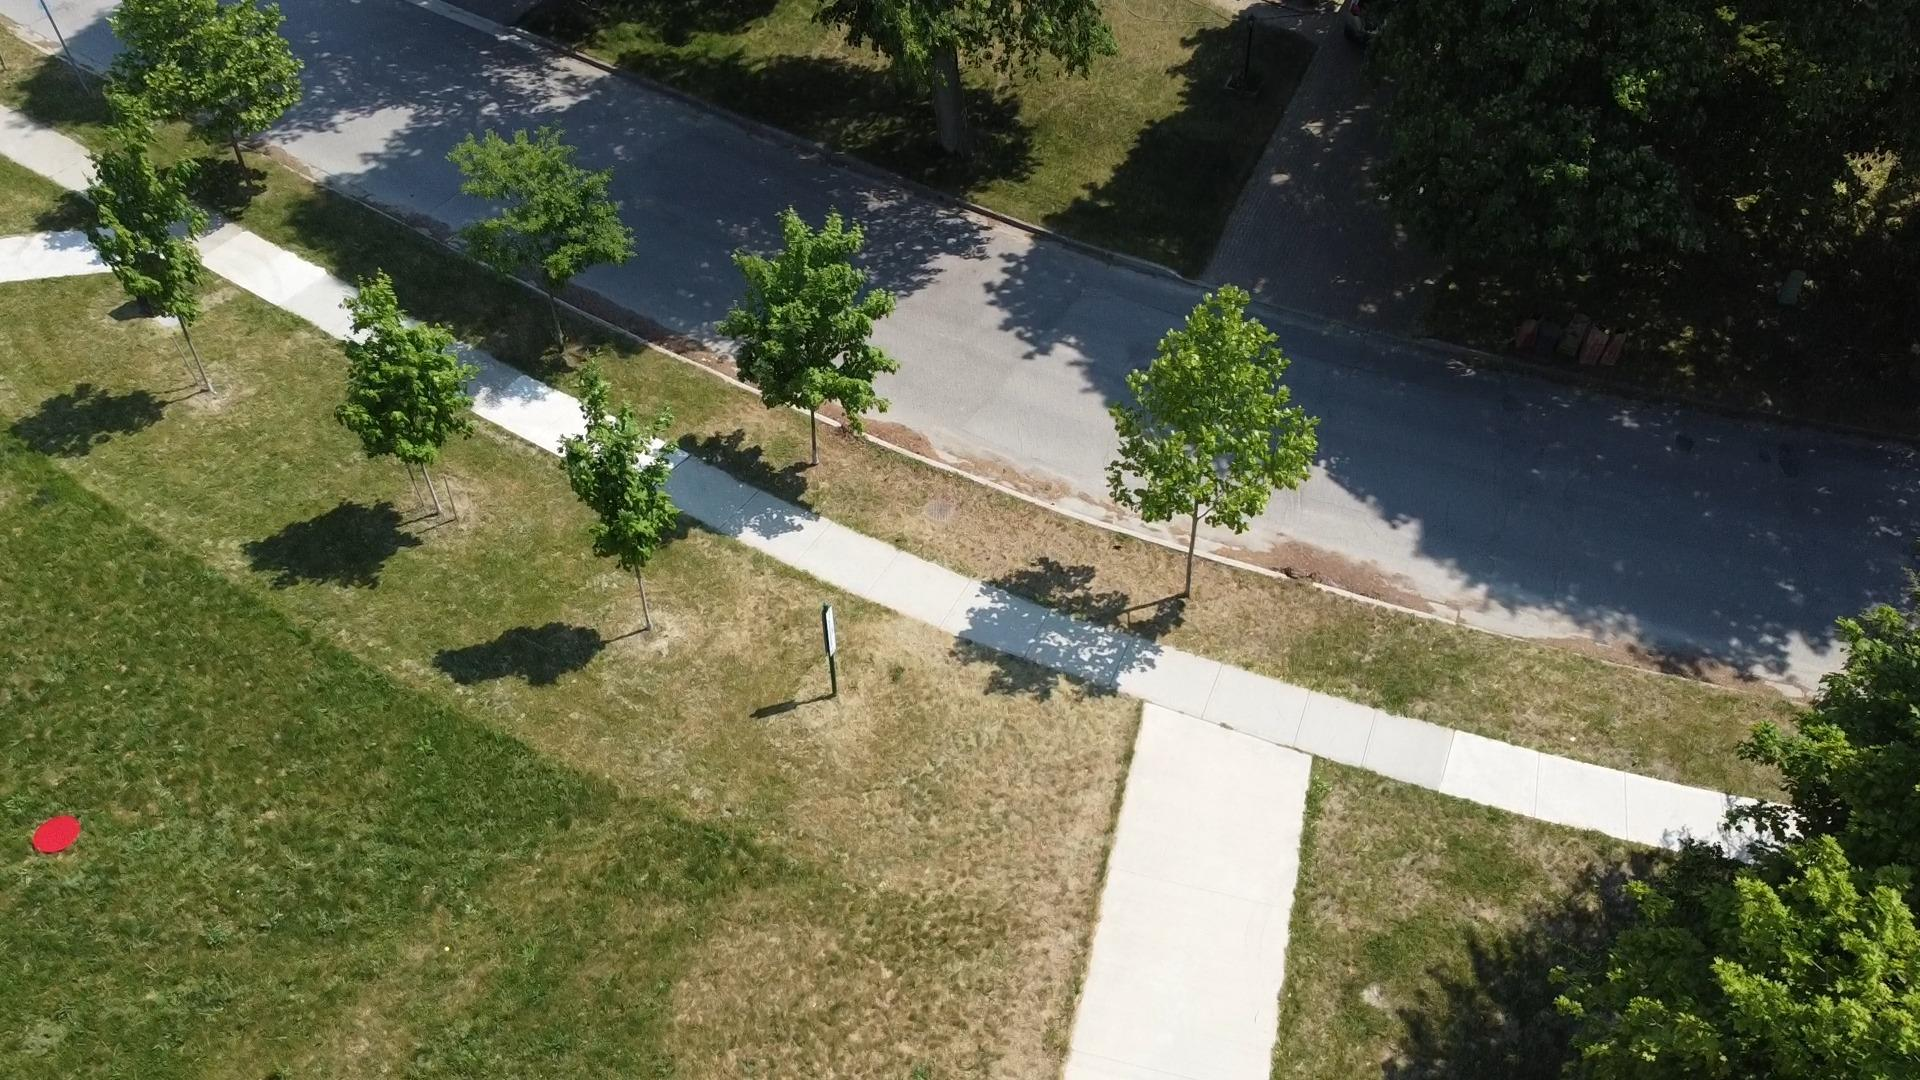Red: (32, 815, 83, 855)
